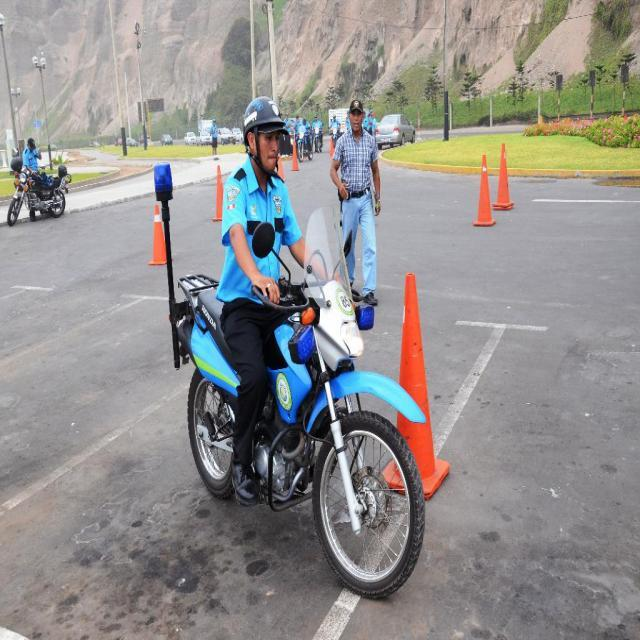bus: (168, 207, 424, 598), (7, 147, 71, 226), (295, 124, 313, 160), (328, 122, 341, 146), (314, 122, 324, 152)
